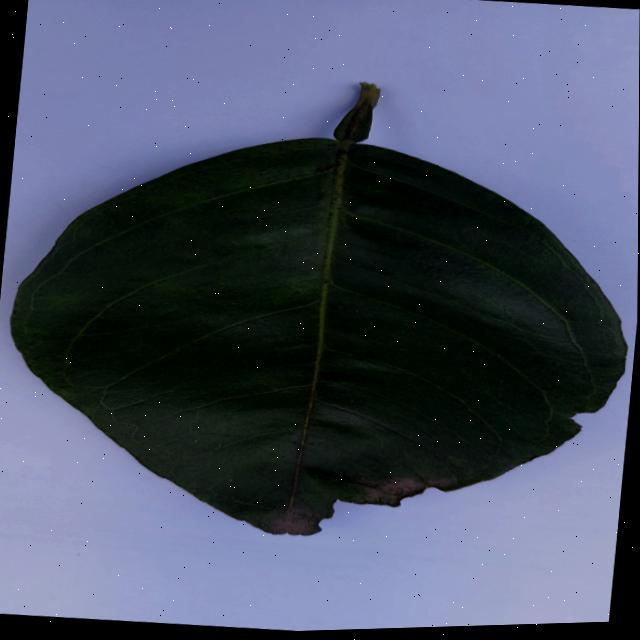greening: (11, 84, 622, 534)
